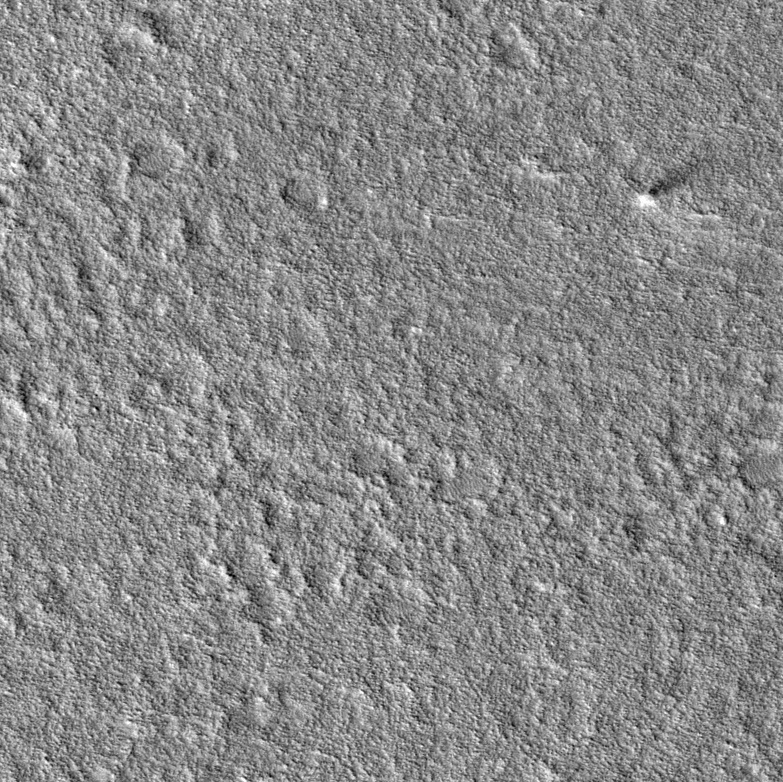dust_devil: (636, 152, 704, 210)
